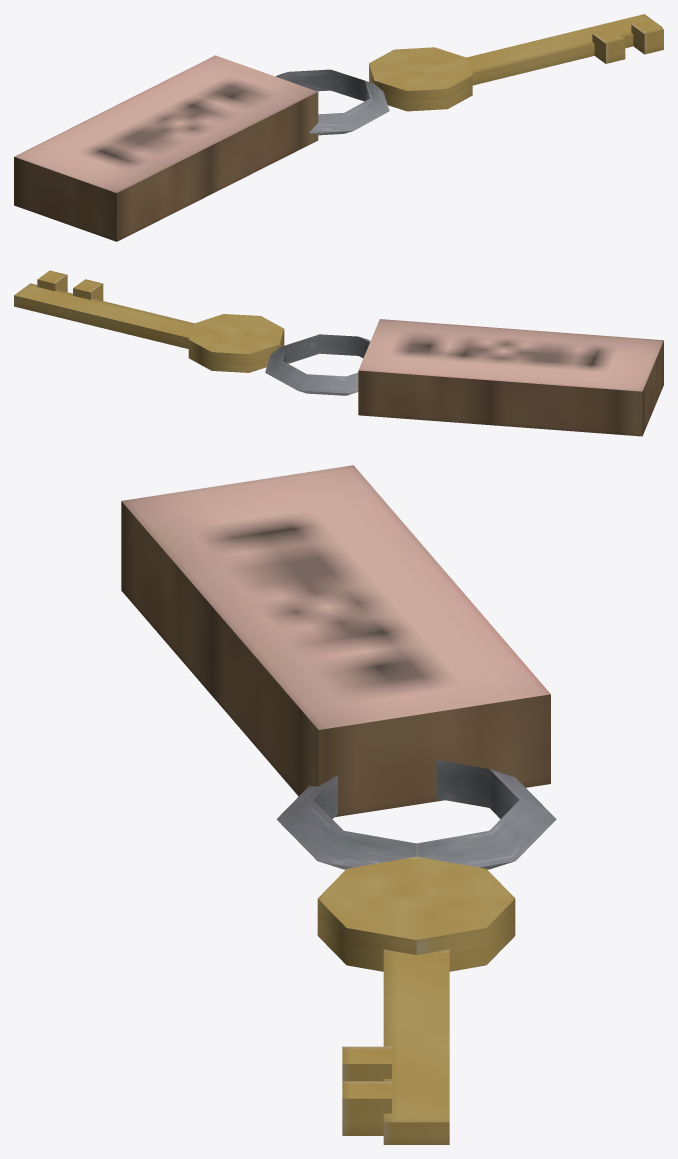
The model's file is key_booth.obj.
The picture shows the model from 3 angles, top to bottom: view 1: azimuth 30°, elevation 25°; view 2: azimuth 150°, elevation 25°; view 3: azimuth 270°, elevation 25°; orthographic projection. The views are drawn at different scales.
Parts seen in each view (by area): view 1: key_booth; view 2: key_booth; view 3: key_booth.
Boxes of the visible parts, box(x1,y1,x2,y2) form: key_booth: box(14, 14, 663, 241); key_booth: box(14, 270, 663, 436); key_booth: box(121, 465, 556, 1144).
Bounding box in the file's own units: 0.1694 × 0.012 × 0.0528.
Materials: 1 (1 with a texture image).
